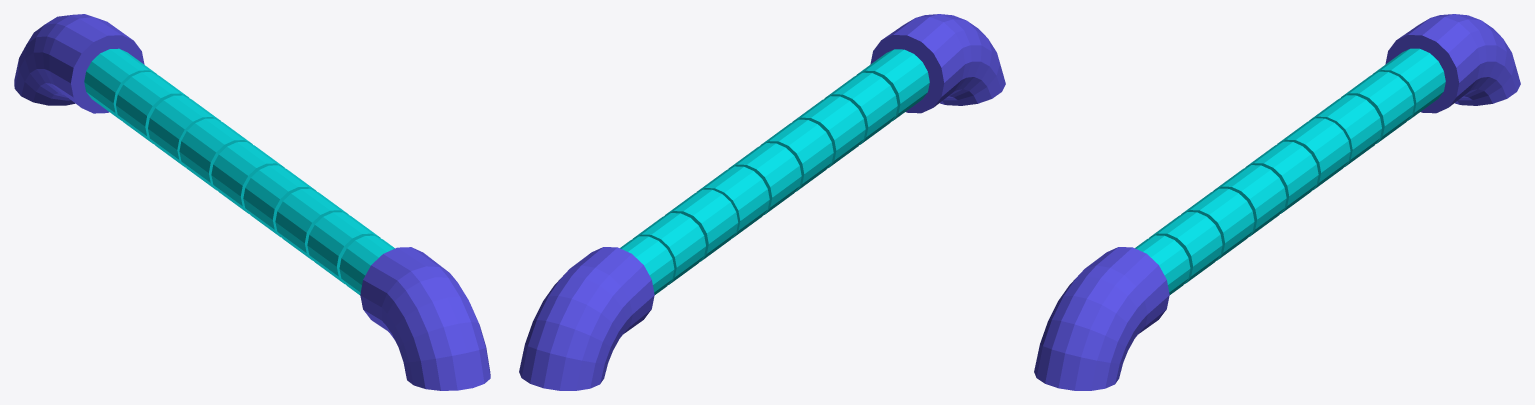
The model's file is TubeFuturistic.fbx.
The picture shows the model from 3 angles, left to right: view 1: azimuth 30°, elevation 25°; view 2: azimuth 150°, elevation 25°; view 3: azimuth 330°, elevation 25°; orthographic projection.
Visible parts, largest first — view 1: Cylinder.008, Cylinder.007, Cylinder.003, Cylinder.004, Cylinder.002, Cylinder.009, Cylinder.010, Cylinder, Cylinder.005, Cylinder.001, Cylinder.006; view 2: Cylinder.007, Cylinder.008, Cylinder.001, Cylinder.003, Cylinder.002, Cylinder.006, Cylinder.009, Cylinder.010, Cylinder.004, Cylinder, Cylinder.005; view 3: Cylinder.008, Cylinder.007, Cylinder.004, Cylinder.003, Cylinder.010, Cylinder.009, Cylinder.002, Cylinder, Cylinder.005, Cylinder.001, Cylinder.006.
Boxes of the visible parts, left/top/right/bottom form: Cylinder.008: left=360, top=247, right=490, bottom=390; Cylinder.007: left=14, top=14, right=144, bottom=113; Cylinder.003: left=307, top=212, right=380, bottom=284; Cylinder.004: left=116, top=72, right=188, bottom=143; Cylinder.002: left=275, top=188, right=348, bottom=260; Cylinder.009: left=243, top=165, right=316, bottom=237; Cylinder.010: left=211, top=142, right=284, bottom=213; Cylinder: left=179, top=118, right=252, bottom=190; Cylinder.005: left=84, top=48, right=157, bottom=120; Cylinder.001: left=148, top=95, right=220, bottom=167; Cylinder.006: left=339, top=235, right=394, bottom=295; Cylinder.007: left=519, top=247, right=654, bottom=390; Cylinder.008: left=870, top=14, right=1005, bottom=113; Cylinder.001: left=665, top=189, right=738, bottom=261; Cylinder.003: left=824, top=72, right=897, bottom=144; Cylinder.002: left=792, top=96, right=865, bottom=168; Cylinder.006: left=856, top=49, right=929, bottom=121; Cylinder.009: left=760, top=119, right=833, bottom=191; Cylinder.010: left=728, top=143, right=801, bottom=215; Cylinder.004: left=633, top=213, right=705, bottom=284; Cylinder: left=697, top=166, right=769, bottom=238; Cylinder.005: left=620, top=236, right=674, bottom=294; Cylinder.008: left=1034, top=247, right=1169, bottom=390; Cylinder.007: left=1385, top=14, right=1520, bottom=113; Cylinder.004: left=1341, top=71, right=1413, bottom=143; Cylinder.003: left=1149, top=212, right=1222, bottom=283; Cylinder.010: left=1245, top=141, right=1318, bottom=213; Cylinder.009: left=1213, top=165, right=1286, bottom=237; Cylinder.002: left=1181, top=188, right=1254, bottom=260; Cylinder: left=1277, top=118, right=1350, bottom=190; Cylinder.005: left=1372, top=48, right=1445, bottom=120; Cylinder.001: left=1309, top=95, right=1381, bottom=167; Cylinder.006: left=1135, top=235, right=1190, bottom=294.
Size of the model in its own units: 307 by 347 by 2989.
